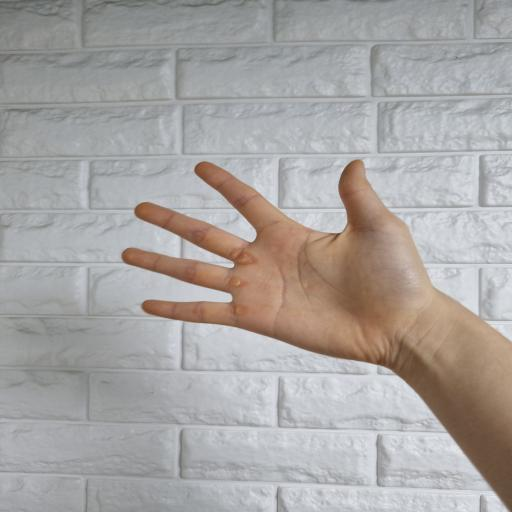Paper: (122, 159, 442, 378)
